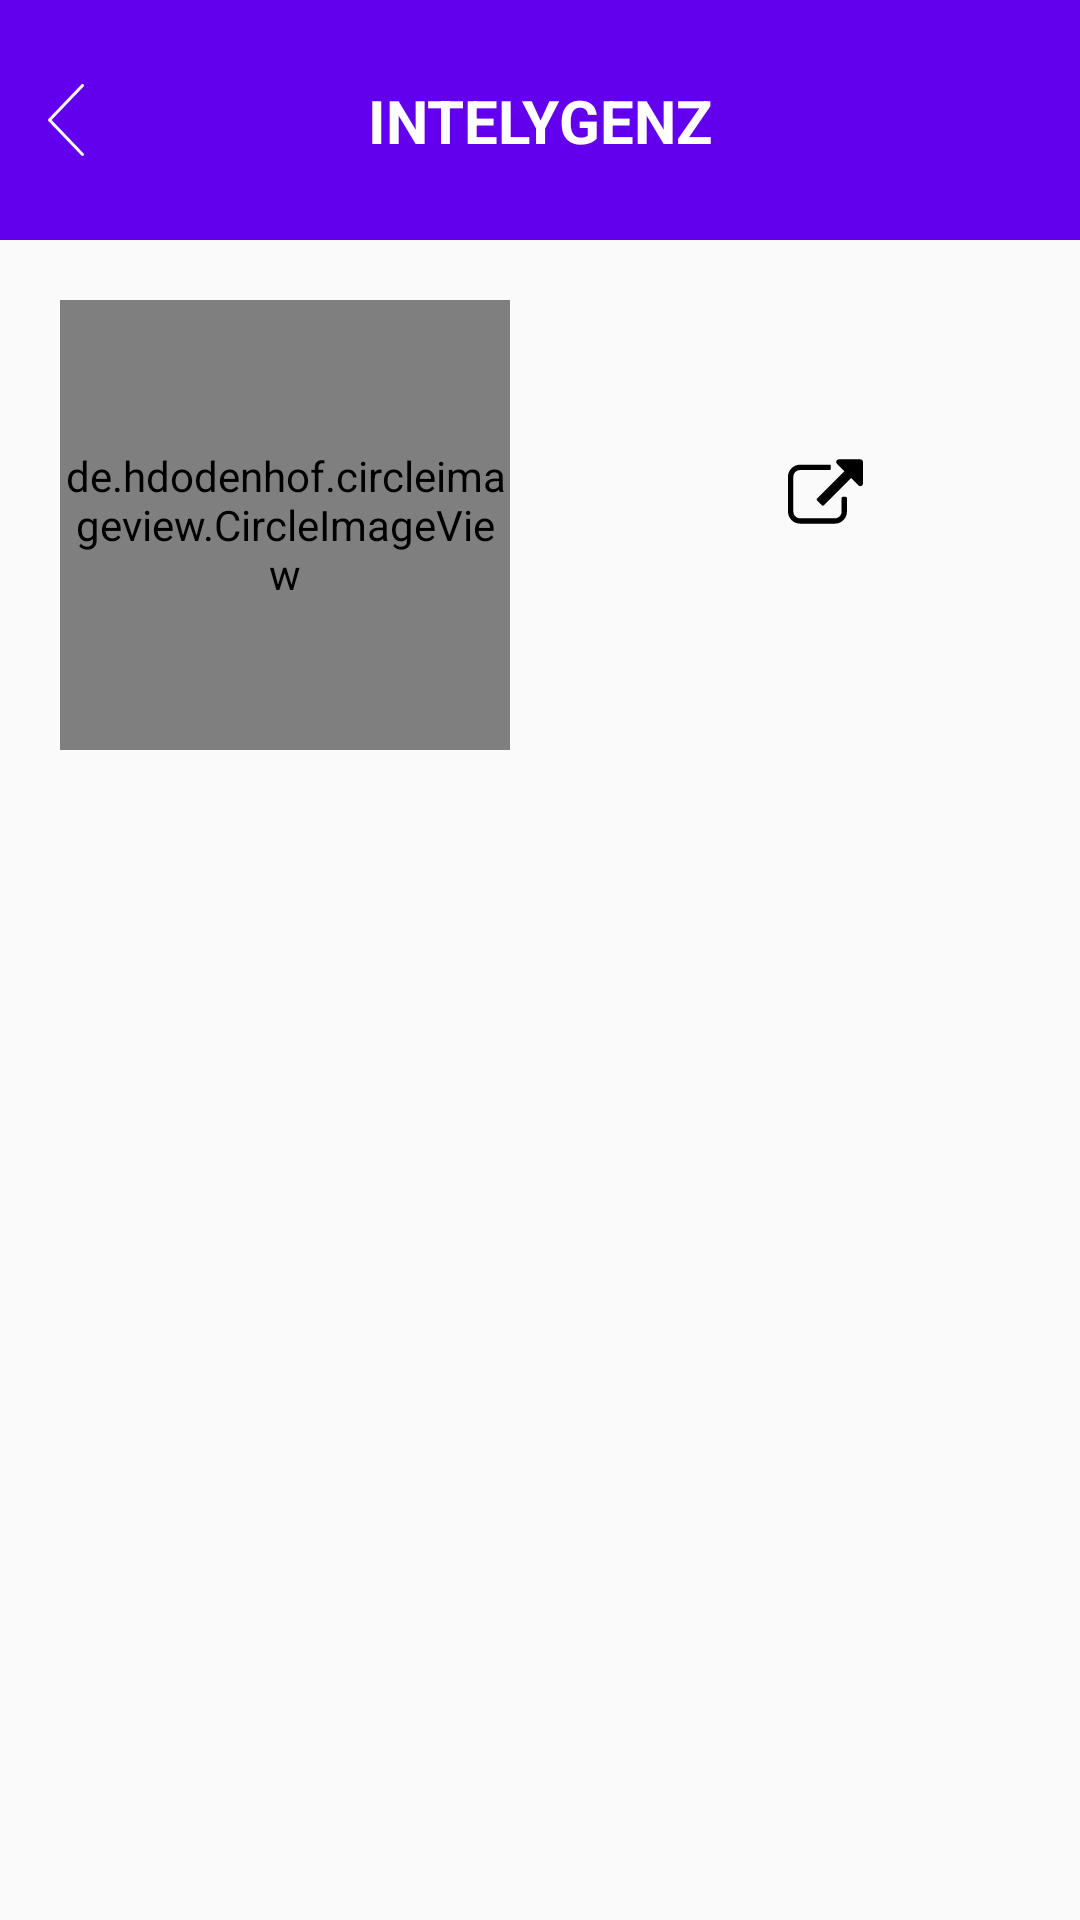

Point at icon controls on the screen. Image size 1080px×1920px, points as [x,y].
external link symbol: [825,491]
left arrow: [66,120]
